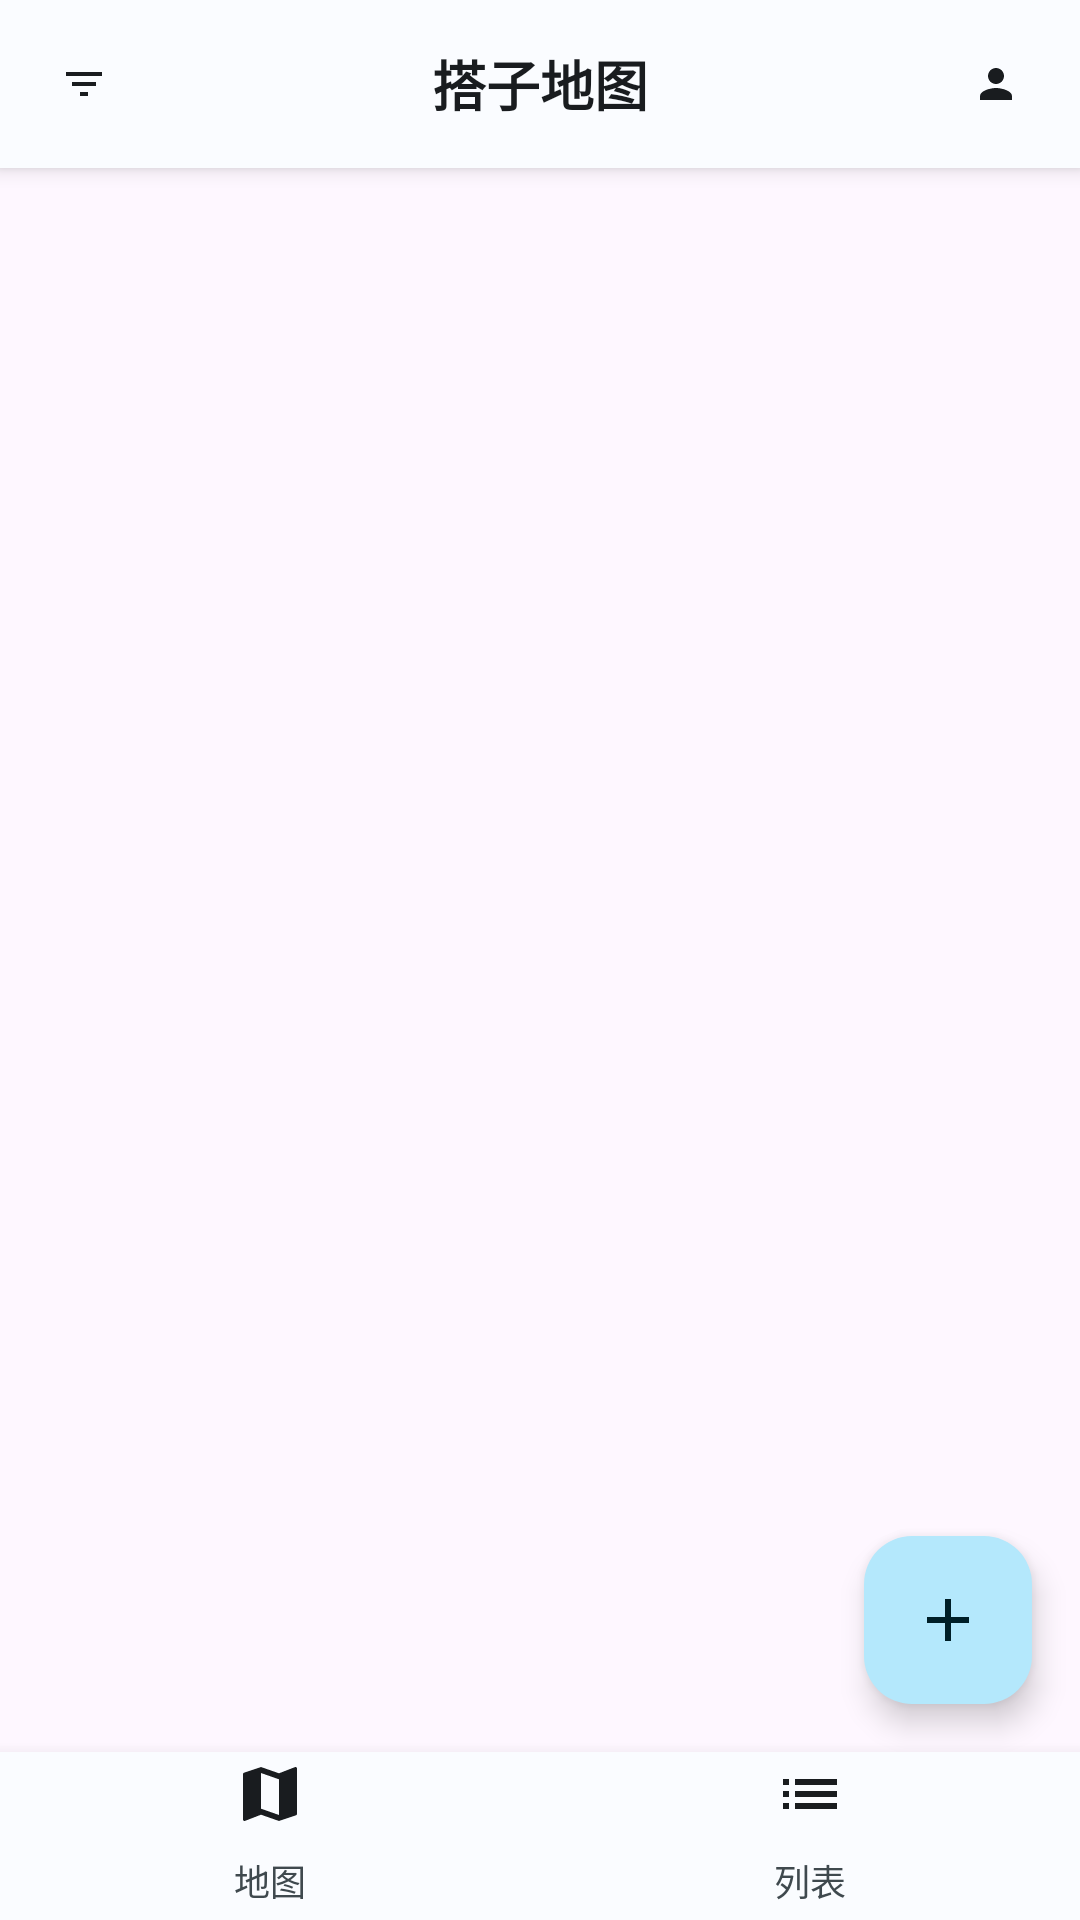

Locate icon controls on the screen. Image size 1080x1920, boxes as [left=x1, top=y1, right=x2, bottom=y2].
发布需求: [left=864, top=1536, right=1032, bottom=1704]
我的: [left=980, top=68, right=1012, bottom=100]
筛选: [left=66, top=72, right=102, bottom=96]
